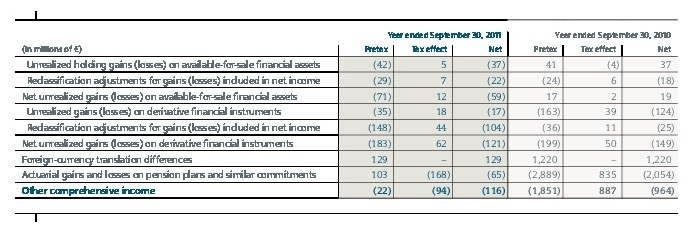table: (0, 0, 695, 237)
